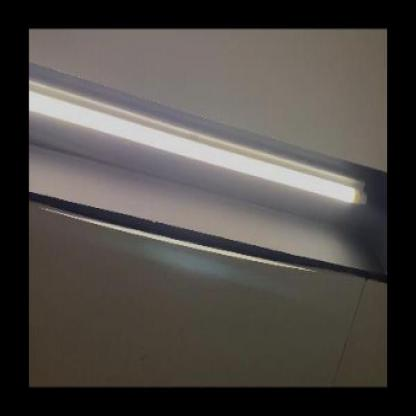light_on: (29, 44, 371, 236)
